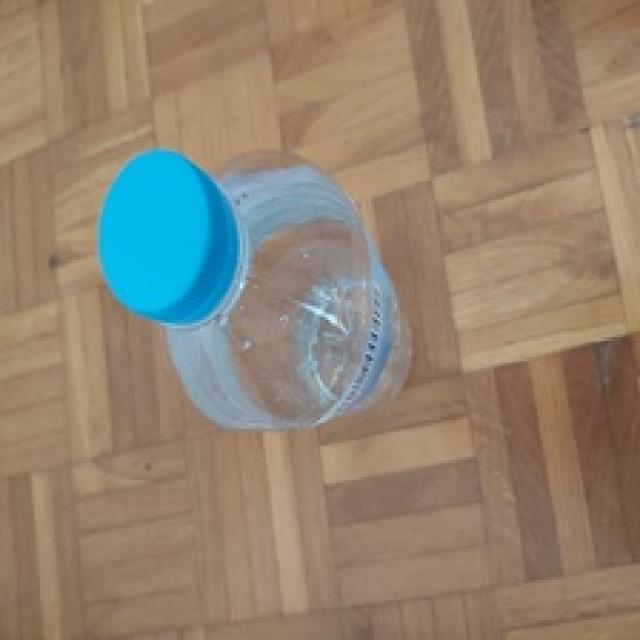Plastic: (99, 148, 415, 430)
